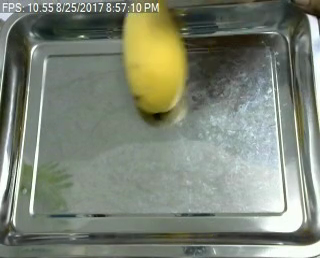Mango: (114, 0, 190, 115)
